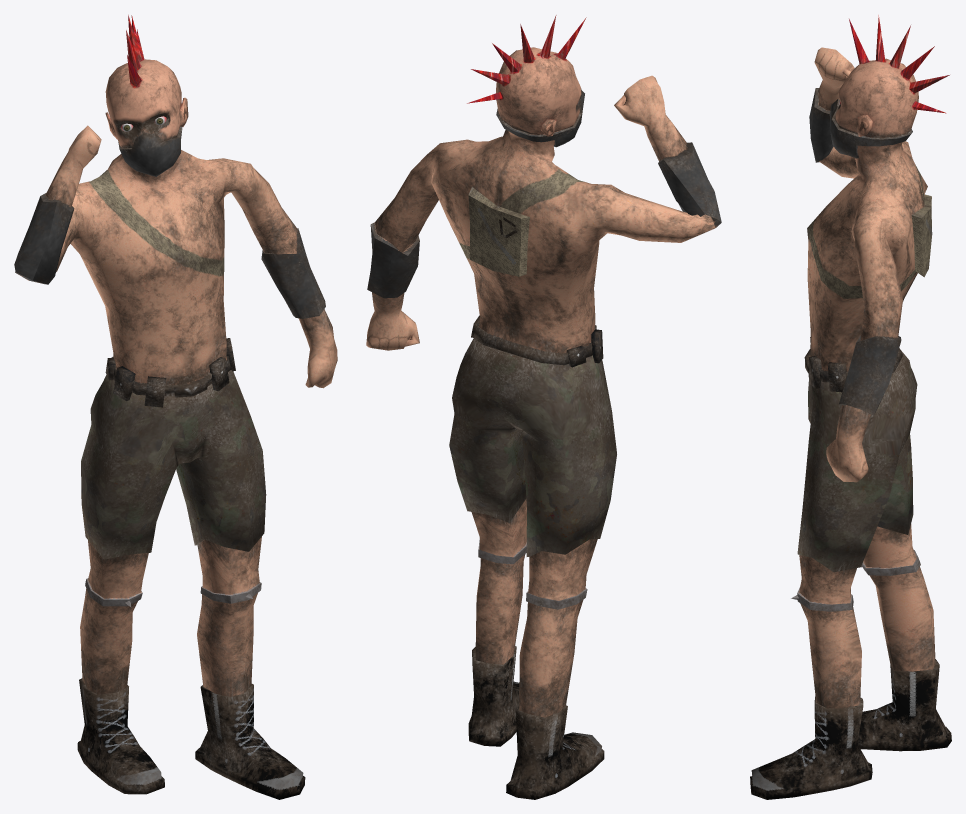
Rendered from Anim_perder_1_npc2.0024.obj.
3 views of the same model, side by side, from view 1: azimuth 30°, elevation 25°; view 2: azimuth 150°, elevation 25°; view 3: azimuth 270°, elevation 25° (orthographic). The views are drawn at different scales.
Parts seen in each view (by area): view 1: polySurface1; view 2: polySurface1; view 3: polySurface1.
Part boxes in pixels (left/top/right/bottom): polySurface1: left=14, top=15, right=337, bottom=799; polySurface1: left=366, top=15, right=721, bottom=799; polySurface1: left=750, top=15, right=951, bottom=799.
Size of the model in its own units: 4.75 by 10.09 by 2.53.
